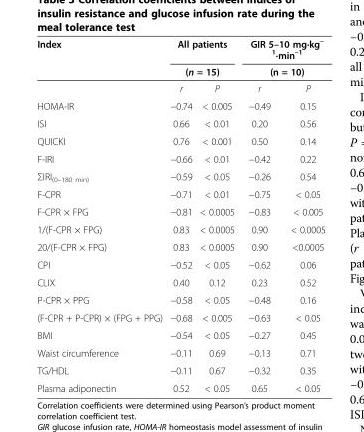table: (36, 36, 324, 393)
table column: (36, 36, 165, 393), (195, 36, 240, 393), (279, 36, 324, 393), (240, 36, 279, 393), (165, 36, 195, 393)
table column header: (36, 36, 324, 96)
table row: (36, 36, 324, 63), (36, 166, 324, 185), (36, 96, 324, 114), (36, 114, 324, 132), (36, 202, 324, 220), (36, 237, 324, 255), (36, 255, 324, 273), (36, 290, 324, 308), (36, 325, 324, 343), (36, 343, 324, 361), (36, 361, 324, 379), (36, 79, 324, 96), (36, 132, 324, 149), (36, 149, 324, 166), (36, 185, 324, 202), (36, 220, 324, 237), (36, 273, 324, 290), (36, 308, 324, 325), (36, 63, 324, 79), (36, 379, 324, 393)
table spanning cell: (36, 36, 165, 96), (240, 36, 324, 79), (165, 36, 240, 79)
